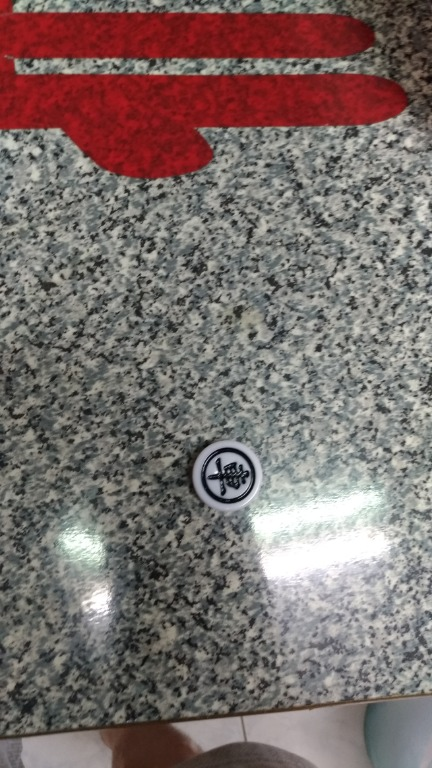b-king: (180, 437, 276, 518)
